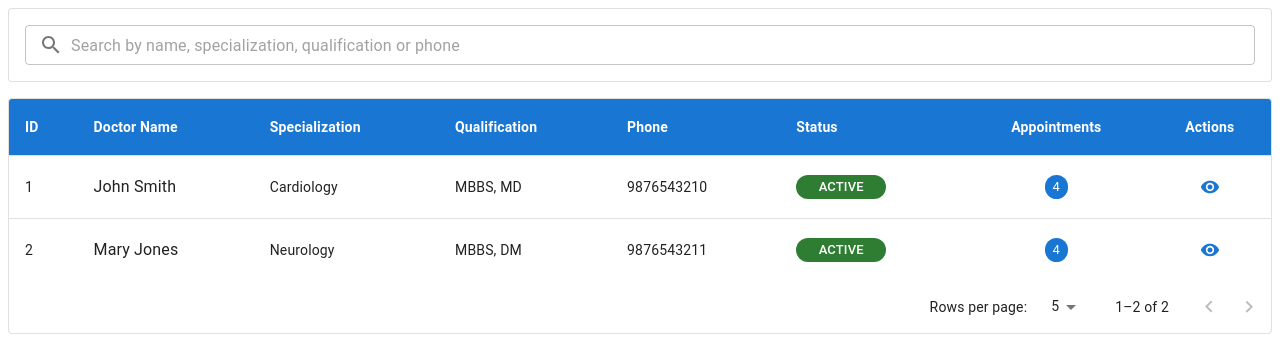
Test case: DoctorTable › should filter doctors by name, specialization, qualification or phone
The width and height of the screenshot is (1280, 351).
Type "Neurology" into the field with placeholder "Search by name, specialization, qualification or phone". click: (663, 45)
box: [71,25,1255,65]
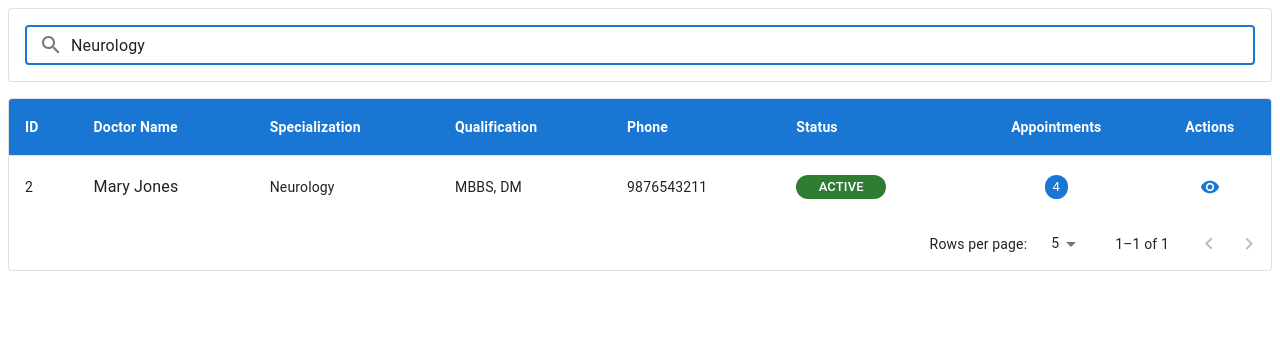
Expected: the text "Mary Jones" is shown, [94,177,178,196]
Expected: the text "John Smith" is gone
